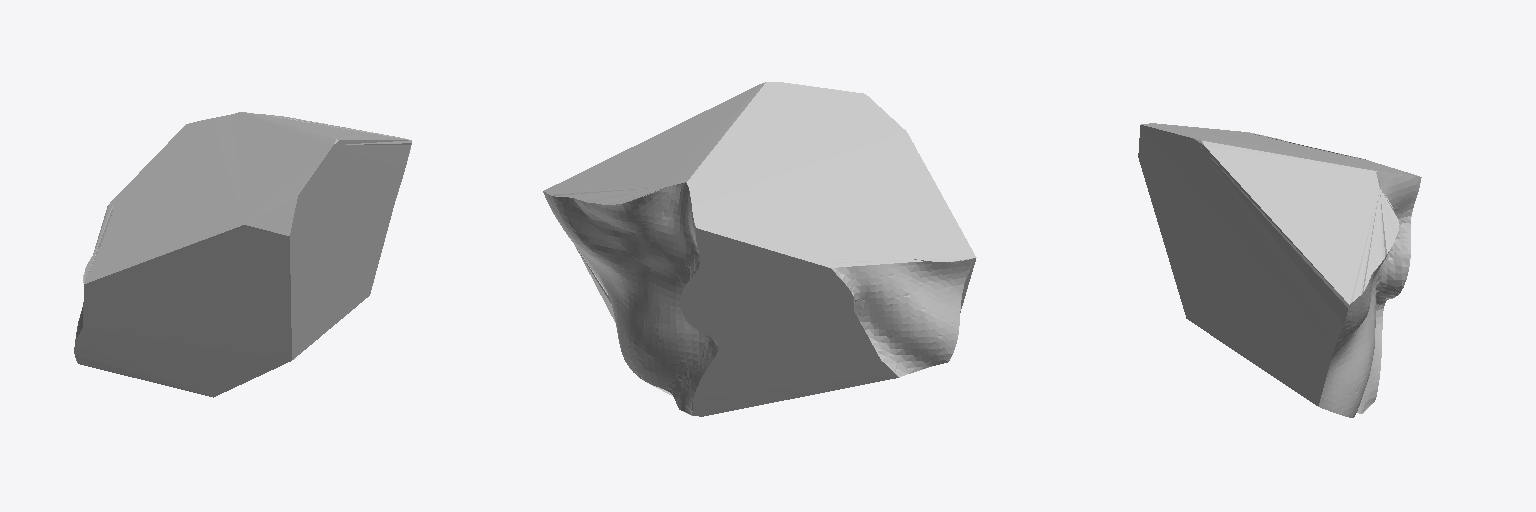
File: low_cell_037.obj
3 views of the same model, side by side, from view 1: azimuth 30°, elevation 25°; view 2: azimuth 150°, elevation 25°; view 3: azimuth 270°, elevation 25° (orthographic).
Parts seen in each view (by area): view 1: low_cell.037_low_cell.036; view 2: low_cell.037_low_cell.036; view 3: low_cell.037_low_cell.036.
Part boxes in pixels (x1,y1,x2,y2): low_cell.037_low_cell.036: (74,112,411,397); low_cell.037_low_cell.036: (543,82,976,416); low_cell.037_low_cell.036: (1138,123,1421,417).
Bounding box in the file's own units: 1.19 × 0.8109 × 0.7697.